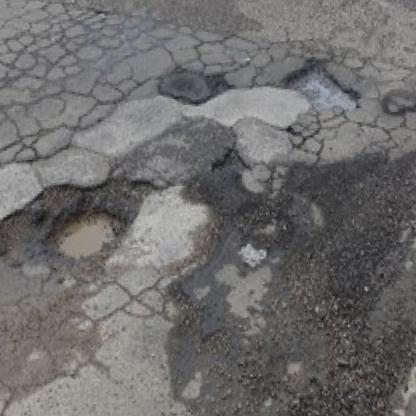pothole: (0, 171, 140, 279), (285, 53, 360, 118), (234, 194, 296, 263), (210, 147, 251, 178)
